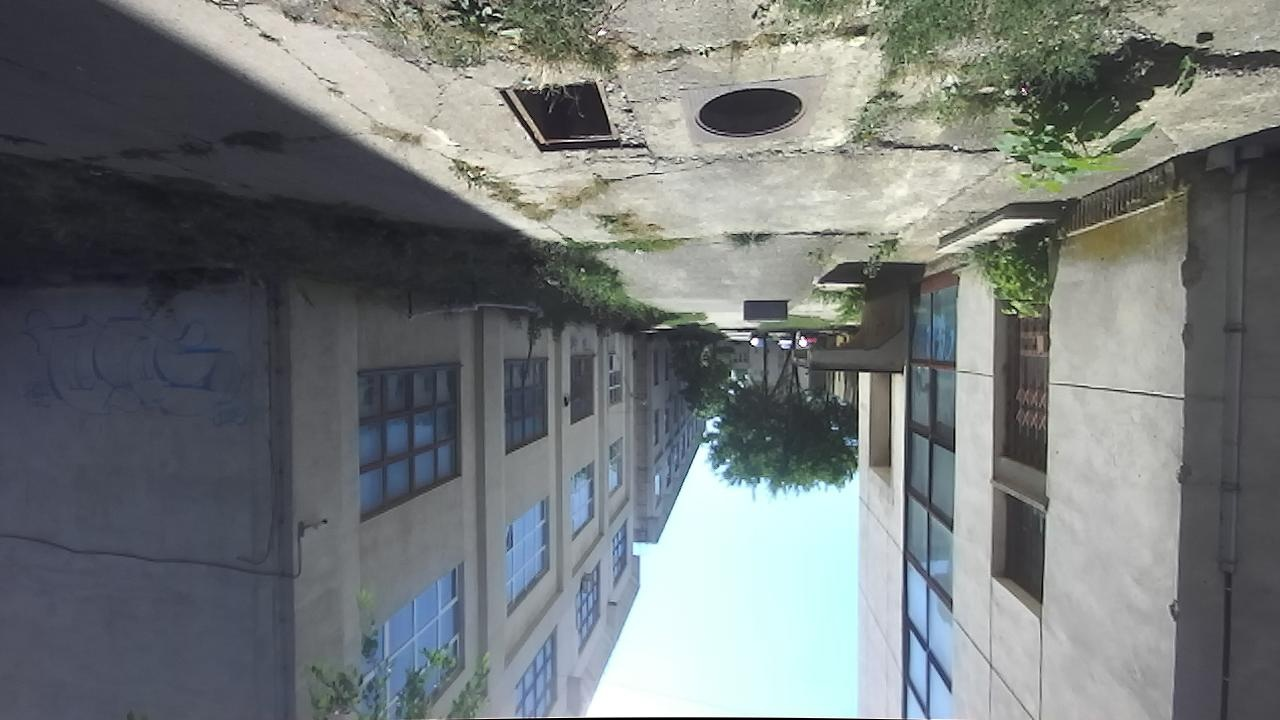drain: (488, 75, 625, 159), (686, 84, 816, 142)
